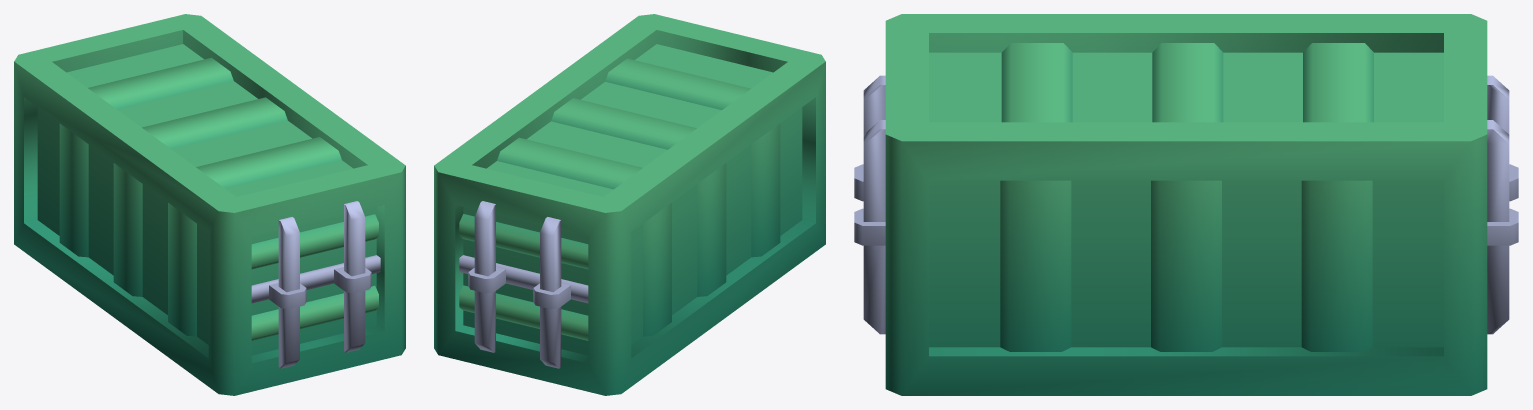
The model's file is kenney-industrial_shipping-container-c.glb.
3 renders of one model, left to right at view 1: azimuth 30°, elevation 25°; view 2: azimuth 150°, elevation 25°; view 3: azimuth 270°, elevation 25°, orthographic. The views are drawn at different scales.
Parts seen in each view (by area): view 1: shipping-container-c; view 2: shipping-container-c; view 3: shipping-container-c.
Boxes of the visible parts, left/top/right/bottom form: shipping-container-c: left=14, top=14, right=405, bottom=395; shipping-container-c: left=434, top=14, right=825, bottom=395; shipping-container-c: left=854, top=14, right=1518, bottom=395.
Bounding box in the file's own units: 0.3726 × 0.3481 × 0.8226.
1 material, 1 textured.
